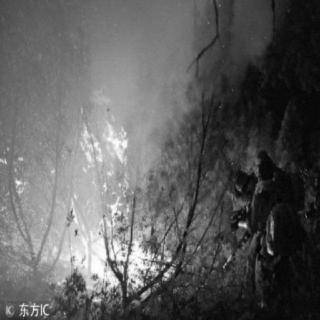Fire: (60, 112, 171, 288)
